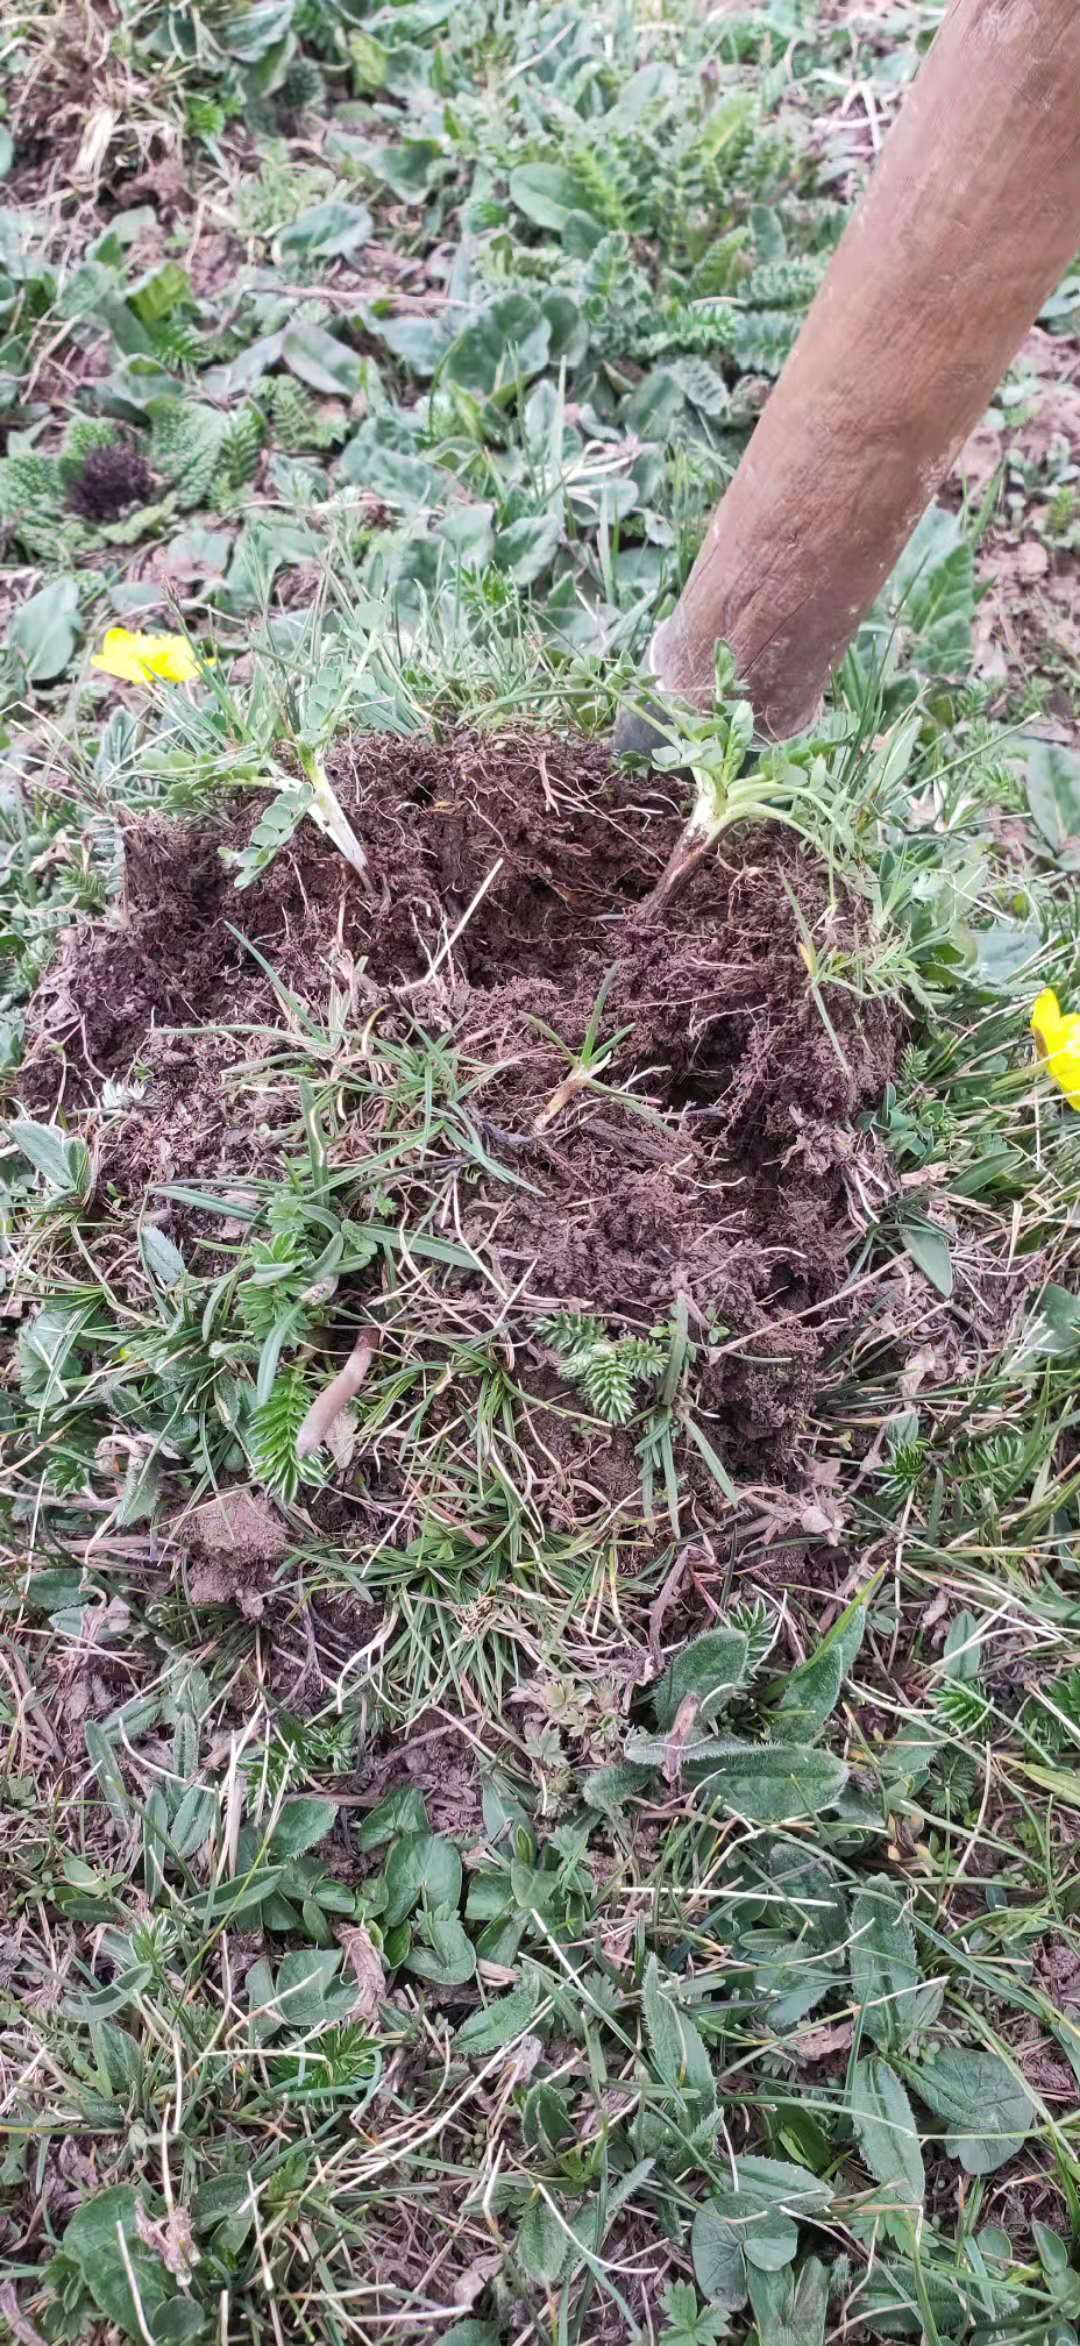cpf: (290, 1327, 387, 1457)
